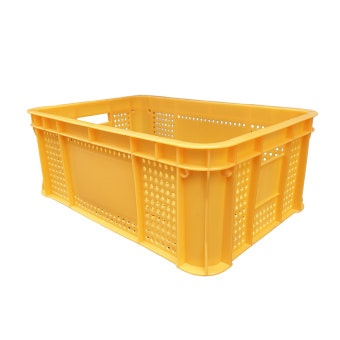plastic: (30, 93, 316, 275)
